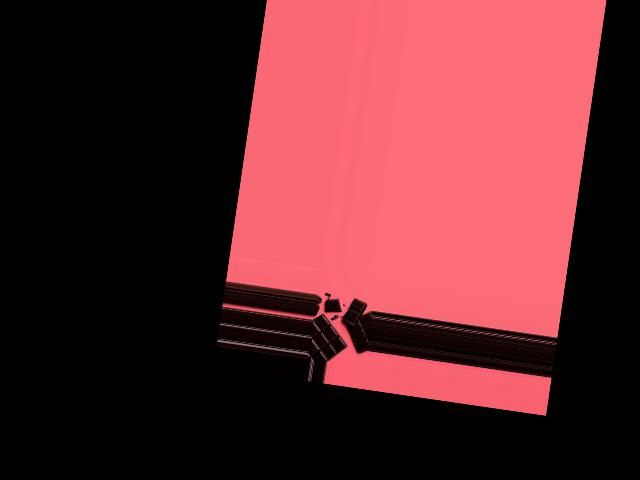chocolate: (307, 296, 369, 367)
